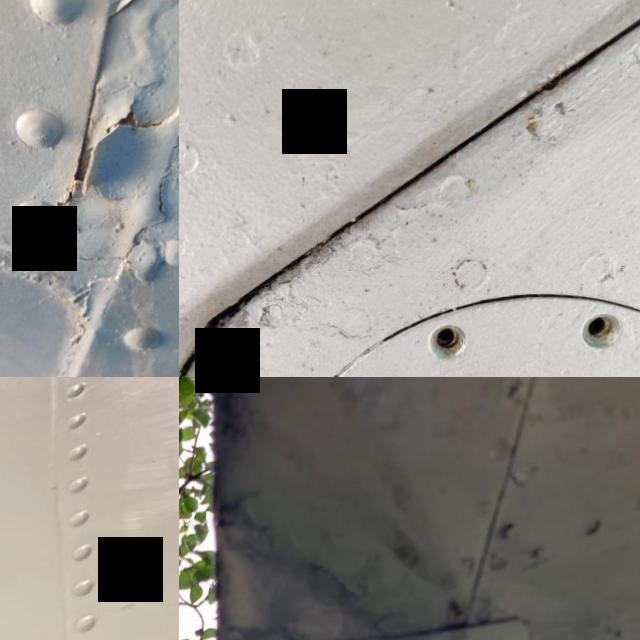Crack: (46, 98, 172, 232)
Dent: (191, 483, 406, 640)
Missing_Fastener: (564, 296, 640, 373), (407, 302, 480, 377)
